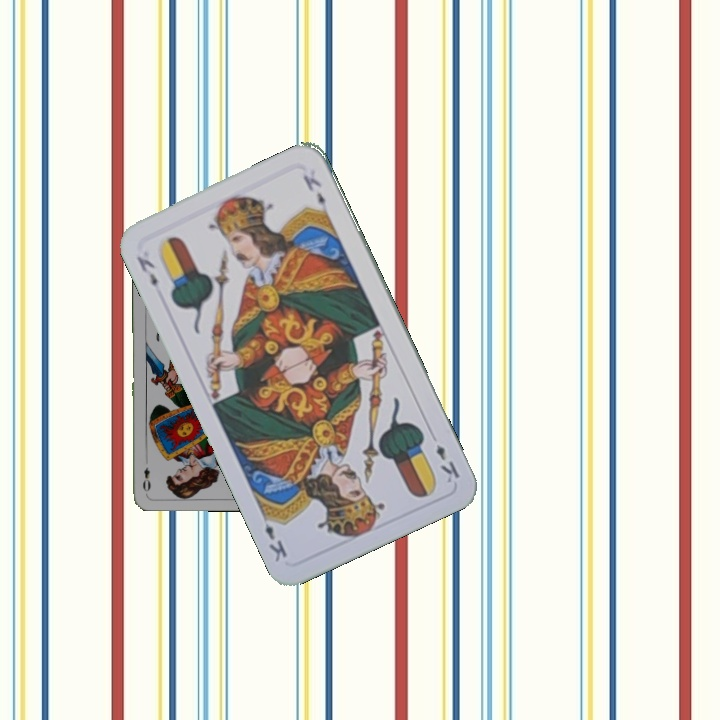EK: (426, 429, 462, 486), (132, 252, 163, 301)
